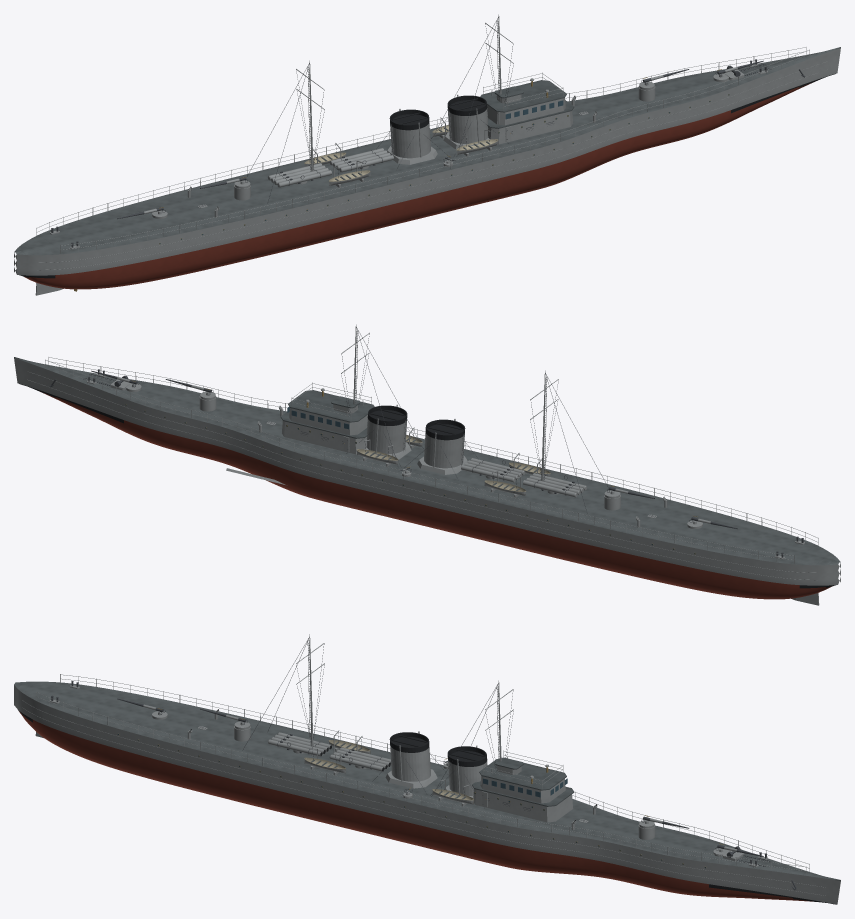
File: sabre_dd22.glb
3 views of the same model, one above another, from view 1: azimuth 30°, elevation 25°; view 2: azimuth 150°, elevation 25°; view 3: azimuth 330°, elevation 25° (orthographic).
Parts seen in each view (by area): view 1: Sabre class; view 2: Sabre class; view 3: Sabre class.
Part boxes in pixels (bbox=[...]): Sabre class: bbox=[14, 14, 840, 295]; Sabre class: bbox=[14, 324, 840, 605]; Sabre class: bbox=[14, 634, 840, 904].
Bounding box in the file's own units: 104 × 20.53 × 10.93.
9 materials, 8 textured.
